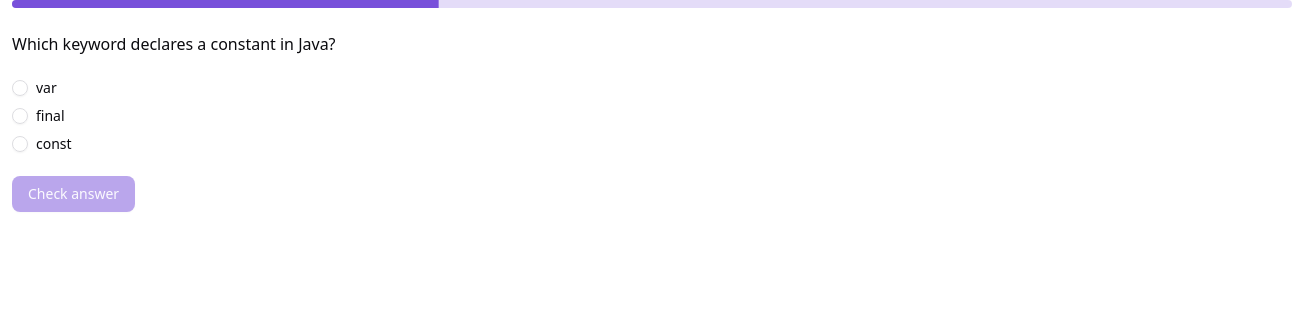
Test: QuizRenderer › shows the explanation after checking an mcq answer
Click the radio button named "final" next to "final" at {"x": 20, "y": 116}, box [12,108,28,124]
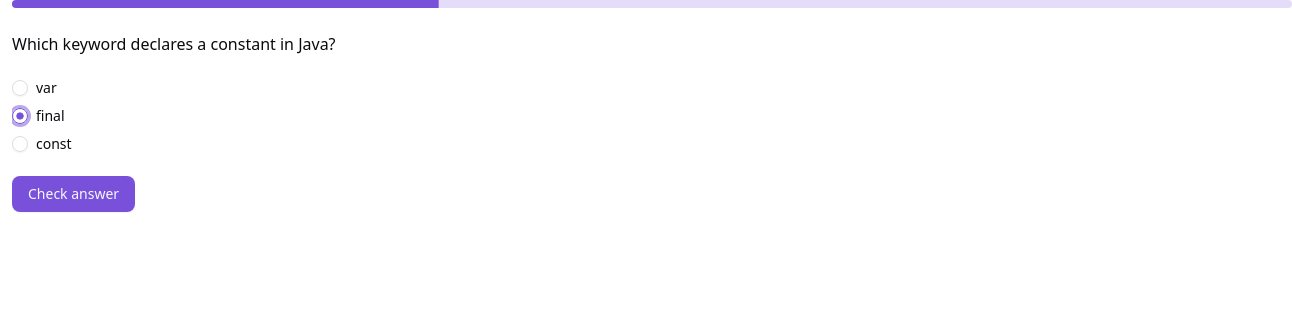
Click the button "Check answer" at {"x": 74, "y": 194}, box [12,176,135,212]
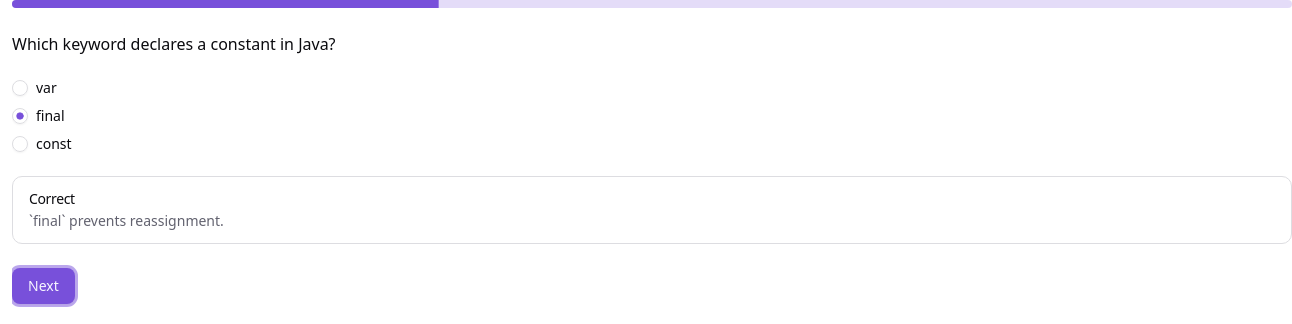
Expected: the text "Correct" is shown, [29,189,75,208]
Expected: the text "`final` prevents reassignment." is shown, [29,211,224,230]
